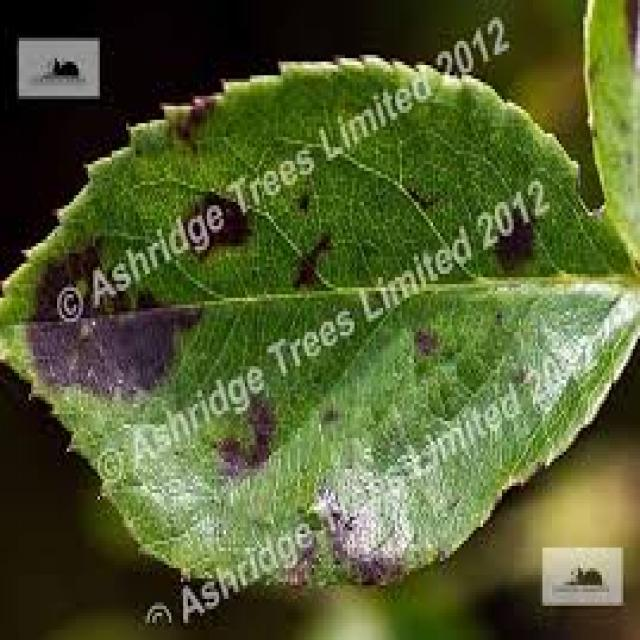black-spot: (45, 227, 241, 448), (300, 489, 509, 640)
